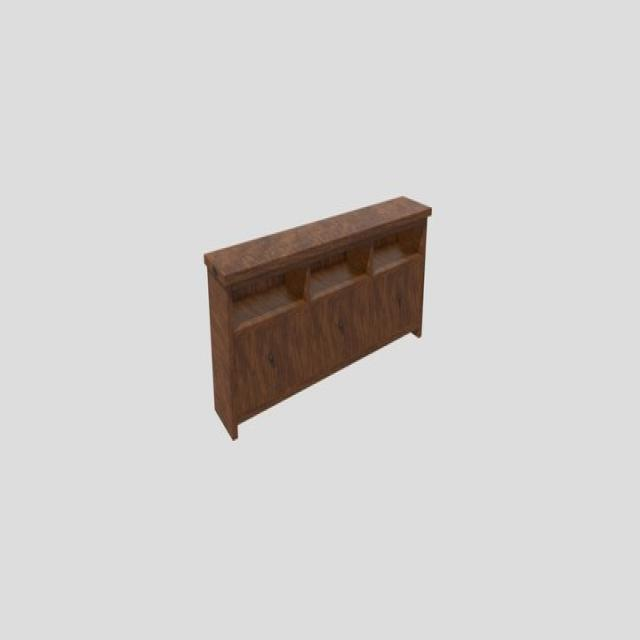table: (203, 192, 435, 440)
